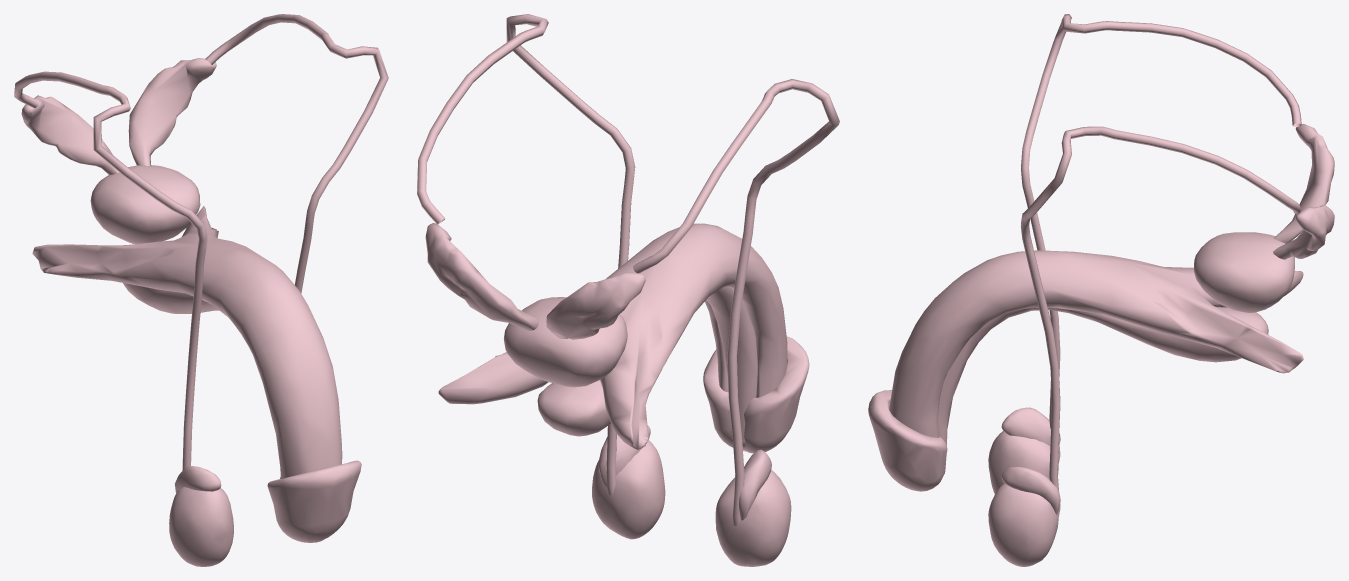
File: genital.glb
3 renders of one model, left to right at view 1: azimuth 30°, elevation 25°; view 2: azimuth 150°, elevation 25°; view 3: azimuth 270°, elevation 25°, orthographic. The views are drawn at different scales.
Visible parts, largest first — view 1: GEN.corpus_cavernosum_of_penis.C, GEN.prostate.C, GEN.ductus_deferens.R, GEN.glans_penis.C, GEN.seminal_gland.L, GEN.testis.R, GEN.ductus_deferens.L, GEN.seminal_gland.R, GEN.corpus_spongiosum_of_penis.C, GEN.epididymis.R; view 2: GEN.corpus_cavernosum_of_penis.C, GEN.ductus_deferens.R, GEN.ductus_deferens.L, GEN.prostate.C, GEN.corpus_spongiosum_of_penis.C, GEN.glans_penis.C, GEN.testis.R, GEN.testis.L, GEN.seminal_gland.L, GEN.seminal_gland.R, GEN.epididymis.R, GEN.epididymis.L; view 3: GEN.corpus_cavernosum_of_penis.C, GEN.prostate.C, GEN.ductus_deferens.L, GEN.ductus_deferens.R, GEN.corpus_spongiosum_of_penis.C, GEN.glans_penis.C, GEN.testis.L, GEN.seminal_gland.R, GEN.testis.R, GEN.seminal_gland.L, GEN.epididymis.L, GEN.epididymis.R.
Part boxes in pixels (x1,y1,x2,y2): GEN.corpus_cavernosum_of_penis.C: [32, 206, 342, 479]; GEN.prostate.C: [90, 165, 200, 243]; GEN.ductus_deferens.R: [14, 71, 207, 470]; GEN.glans_penis.C: [267, 460, 361, 542]; GEN.seminal_gland.L: [128, 58, 216, 165]; GEN.testis.R: [169, 487, 233, 566]; GEN.ductus_deferens.L: [205, 14, 388, 293]; GEN.seminal_gland.R: [21, 95, 119, 174]; GEN.corpus_spongiosum_of_penis.C: [123, 283, 218, 313]; GEN.epididymis.R: [174, 466, 221, 492]; GEN.corpus_cavernosum_of_penis.C: [438, 223, 787, 449]; GEN.ductus_deferens.R: [633, 79, 839, 526]; GEN.ductus_deferens.L: [417, 14, 635, 495]; GEN.prostate.C: [504, 297, 627, 387]; GEN.corpus_spongiosum_of_penis.C: [537, 287, 757, 447]; GEN.glans_penis.C: [703, 336, 809, 453]; GEN.testis.R: [715, 470, 791, 566]; GEN.testis.L: [592, 440, 665, 539]; GEN.seminal_gland.L: [425, 223, 539, 330]; GEN.seminal_gland.R: [546, 272, 645, 339]; GEN.epididymis.R: [739, 449, 771, 520]; GEN.epididymis.L: [598, 425, 650, 487]; GEN.corpus_cavernosum_of_penis.C: [889, 250, 1303, 437]; GEN.prostate.C: [1194, 232, 1294, 312]; GEN.ductus_deferens.L: [1020, 126, 1301, 518]; GEN.ductus_deferens.R: [1021, 14, 1301, 463]; GEN.corpus_spongiosum_of_penis.C: [938, 307, 1268, 473]; GEN.glans_penis.C: [868, 390, 947, 491]; GEN.testis.L: [988, 483, 1058, 566]; GEN.seminal_gland.R: [1274, 124, 1334, 243]; GEN.testis.R: [988, 431, 1058, 494]; GEN.seminal_gland.L: [1273, 205, 1334, 259]; GEN.epididymis.L: [1001, 467, 1060, 514]; GEN.epididymis.R: [1001, 407, 1060, 445].
Bounding box in the file's own units: 0.1103 × 0.1653 × 0.151.
